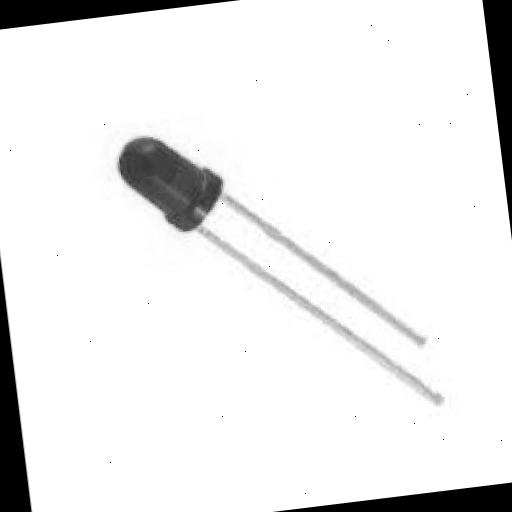LED: (106, 72, 490, 475)
